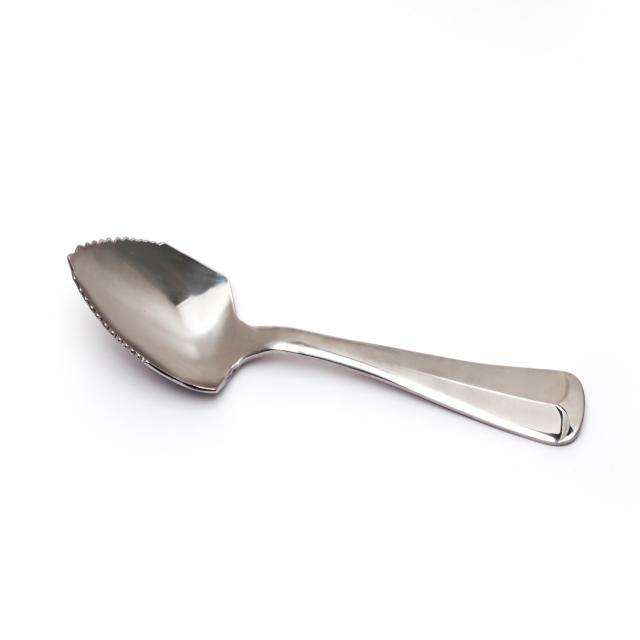spoon: (58, 213, 596, 464)
